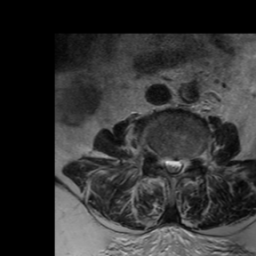CCS_stenosis: (170, 149, 177, 182)
LFS_normal: (187, 145, 195, 174)
LLS_normal: (177, 149, 187, 180)
RFS_normal: (153, 144, 162, 173)
RLS_normal: (162, 149, 170, 176)
